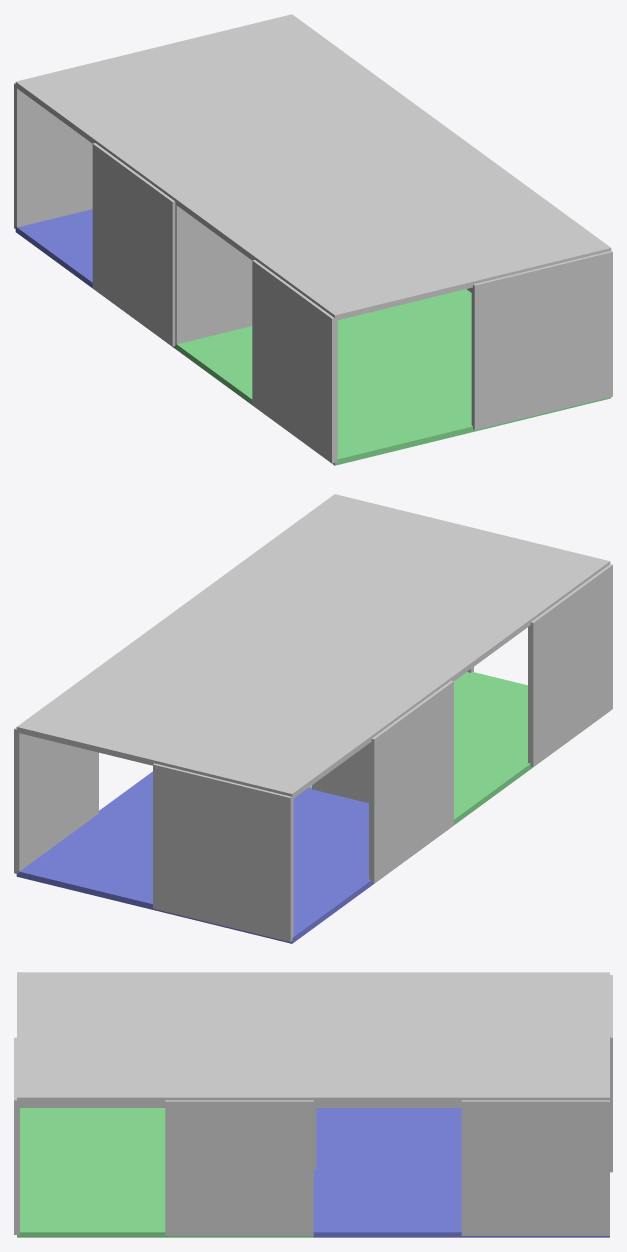
File: 002-Crear una casa.glb
3 views of the same model, one above another, from view 1: azimuth 30°, elevation 25°; view 2: azimuth 150°, elevation 25°; view 3: azimuth 270°, elevation 25° (orthographic). The views are drawn at different scales.
Parts seen in each view (by area): view 1: Cube.007, Cube.006, Cube.018, Cube.011, Cube.021, Cube.010, Cube.008, Cube.022, Cube.020, Cube.009, Cube.019, Cube.003 (+6 smaller); view 2: Cube.017, Cube.006, Cube.018, Cube.021, Cube.020, Cube.010, Cube.022, Cube.011, Cube.019, Cube.009, Cube.008, Cube.016 (+7 smaller); view 3: Cube.004, Cube.016, Cube.012, Cube.008, Cube.019, Cube, Cube.009, Cube.020, Cube.010, Cube.011, Cube.021, Cube.022 (+6 smaller).
Part boxes in pixels (<box>): Cube.007: <box>471,251,612,430</box>; Cube.006: <box>252,260,337,463</box>; Cube.018: <box>92,143,175,346</box>; Cube.011: <box>255,223,472,320</box>; Cube.021: <box>15,48,232,143</box>; Cube.010: <box>175,165,392,260</box>; Cube.008: <box>393,189,611,284</box>; Cube.022: <box>95,106,312,200</box>; Cube.020: <box>154,14,371,106</box>; Cube.009: <box>314,131,531,222</box>; Cube.019: <box>234,72,450,164</box>; Cube.003: <box>256,368,472,465</box>; Cube.017: <box>153,763,293,941</box>; Cube.006: <box>528,564,612,766</box>; Cube.018: <box>369,680,453,883</box>; Cube.021: <box>154,702,371,798</box>; Cube.020: <box>16,668,233,765</box>; Cube.010: <box>314,586,530,680</box>; Cube.022: <box>234,644,451,738</box>; Cube.011: <box>393,527,610,621</box>; Cube.019: <box>96,610,312,702</box>; Cube.009: <box>176,552,392,643</box>; Cube.008: <box>255,494,471,585</box>; Cube.016: <box>14,727,98,874</box>; Cube.004: <box>165,1100,313,1235</box>; Cube.016: <box>461,1100,609,1235</box>; Cube.012: <box>313,1169,461,1237</box>; Cube.008: <box>17,1035,165,1102</box>; Cube.019: <box>313,1035,461,1102</box>; Cube: <box>17,1169,165,1237</box>; Cube.009: <box>165,1035,313,1100</box>; Cube.020: <box>461,1035,609,1100</box>; Cube.010: <box>165,972,313,1034</box>; Cube.011: <box>17,972,165,1034</box>; Cube.021: <box>461,972,609,1034</box>; Cube.022: <box>313,972,461,1034</box>.
Bounding box in the file's own units: 4.08 × 2.08 × 8.08.
